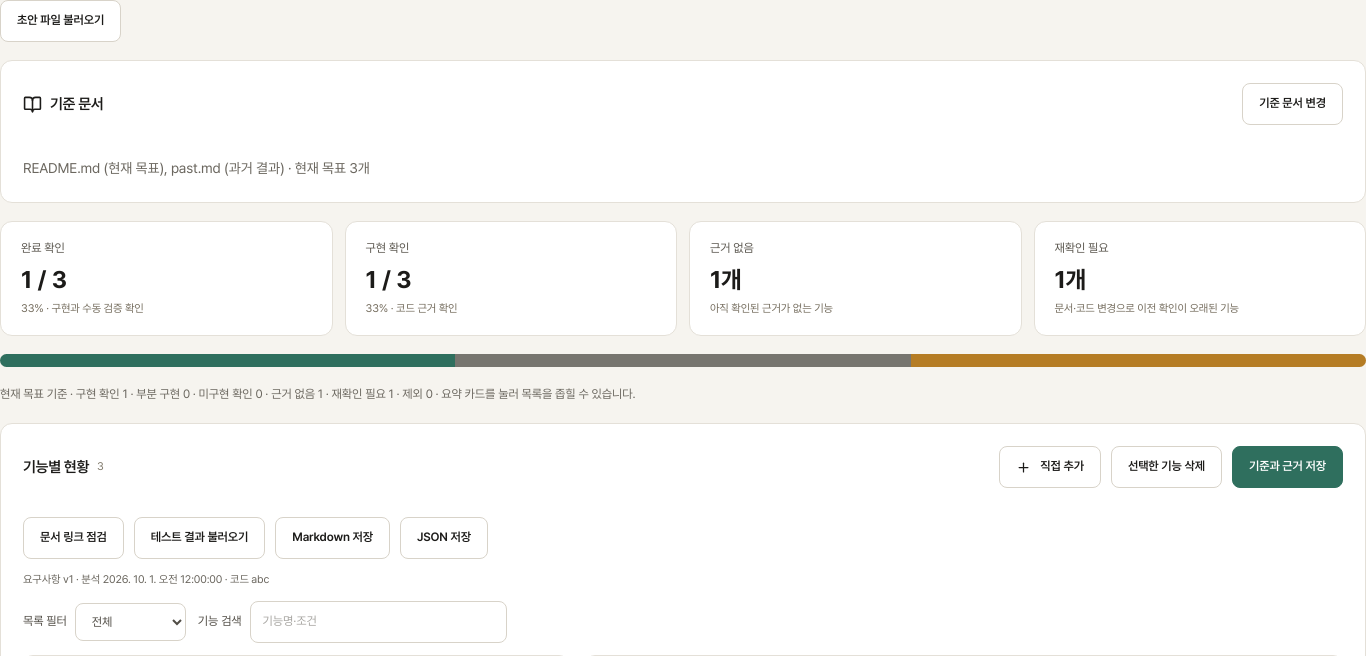
Test: toggles the 근거 없음 card back to all items and clears search
The image size is (1366, 656).
Click the button with aria-label "근거 없음 1개 보기": coordinates (732, 248) [689,221,1022,336]
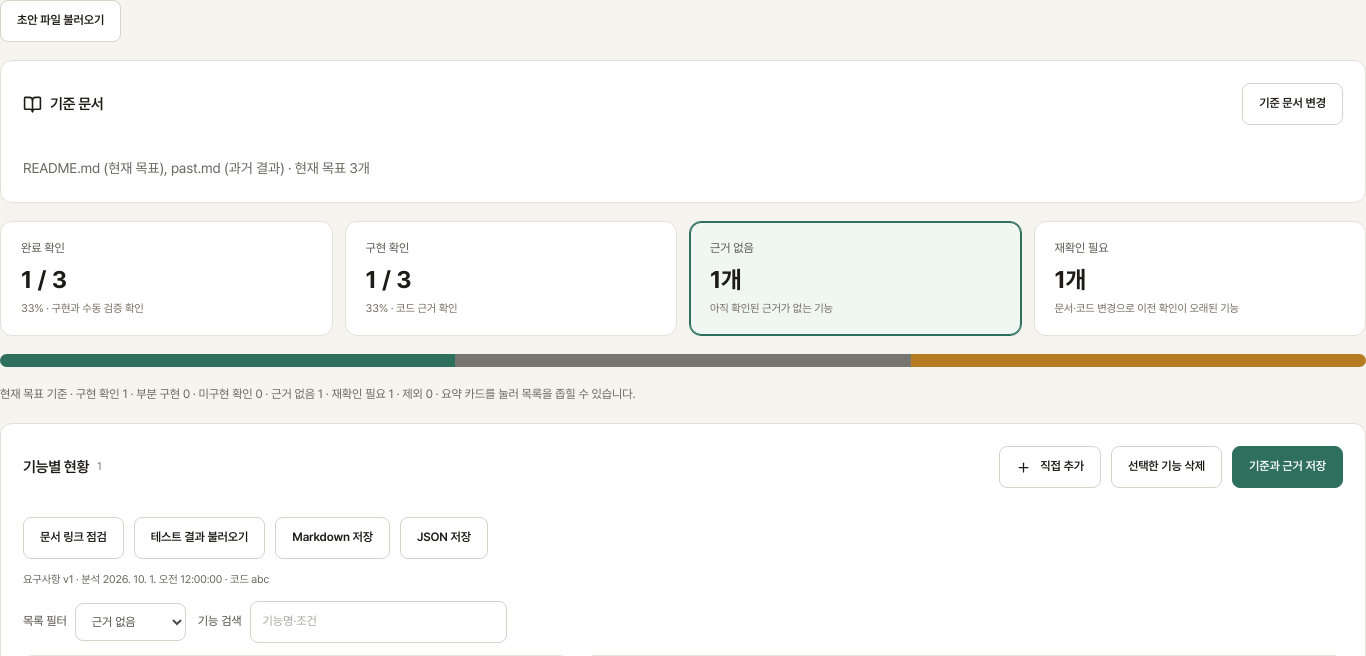
Now the dropdown labelled "목록 필터" shows "근거 없음", box [75,603,186,641]
In the field labelled "기능 검색": coordinates (378, 622) [250,601,507,643], type "없는 검색어"
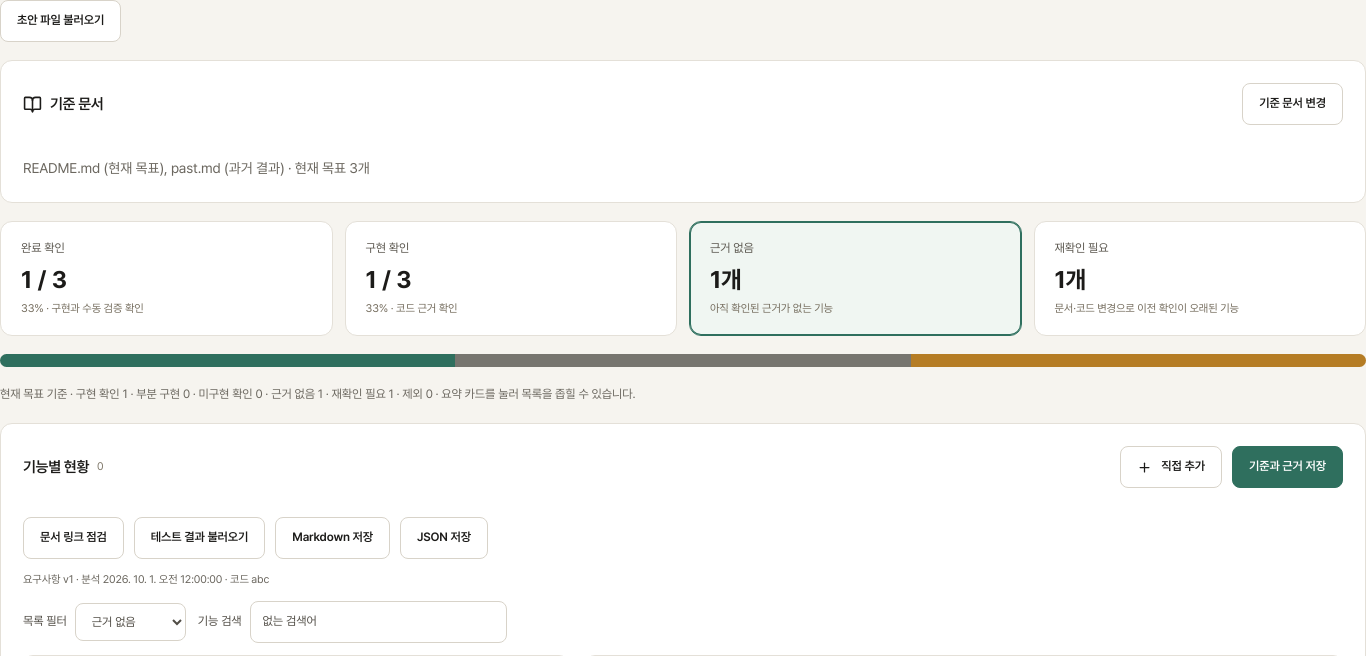
Click the button with aria-label "근거 없음 1개 보기": coordinates (732, 248) [689,221,1022,336]
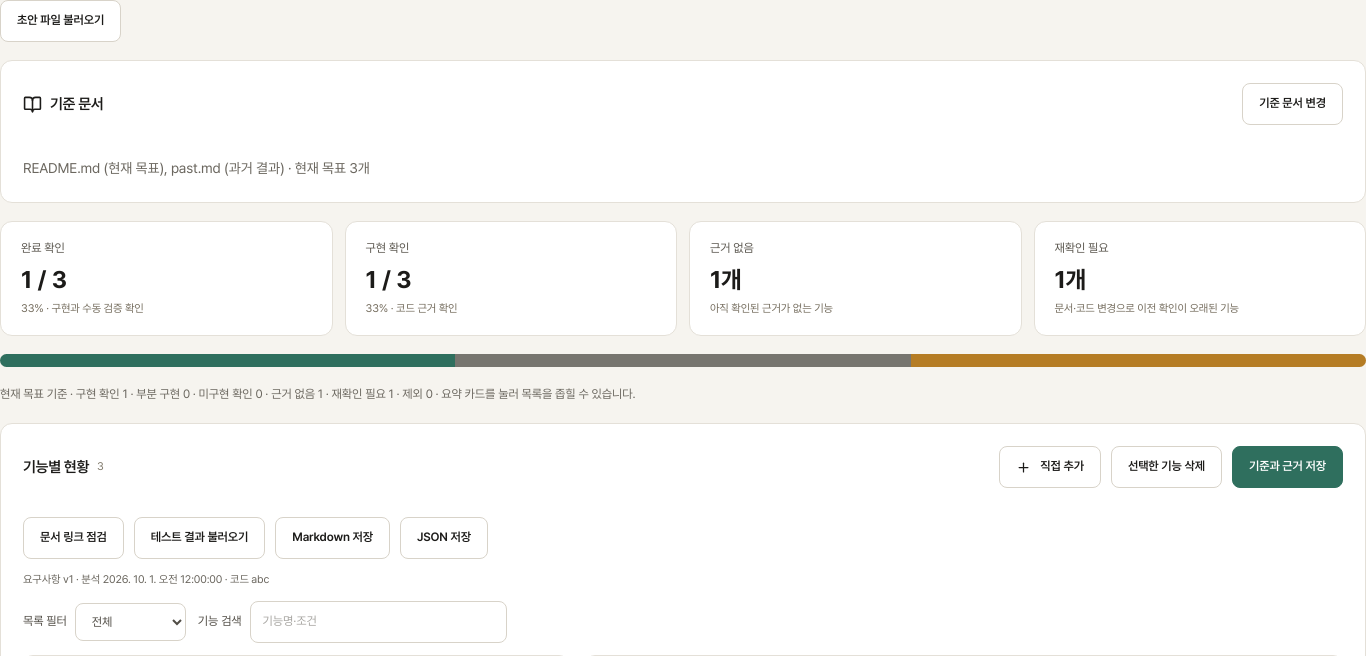
Now the dropdown labelled "목록 필터" shows "전체", box [75,603,186,641]
Now the field labelled "기능 검색" is empty, box [250,601,507,643]
